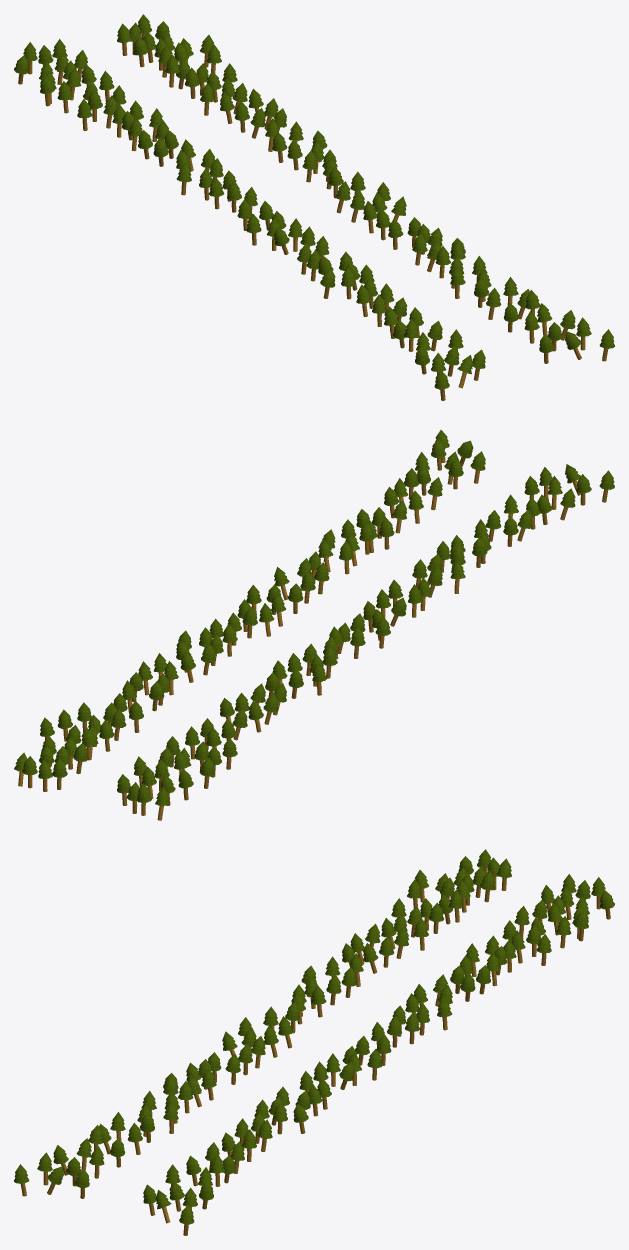
File: m140_tree.fbx
3 views of the same model, one above another, from view 1: azimuth 30°, elevation 25°; view 2: azimuth 150°, elevation 25°; view 3: azimuth 330°, elevation 25° (orthographic).
Visible parts, largest first — view 1: ki6; view 2: ki6; view 3: ki6.
Part boxes in pixels (x1,y1,x2,y2): ki6: [14, 14, 614, 400]; ki6: [14, 430, 614, 820]; ki6: [14, 849, 614, 1235].
Size of the model in its own units: 3273 by 734 by 14142.
Materials: 1 (1 with a texture image).
